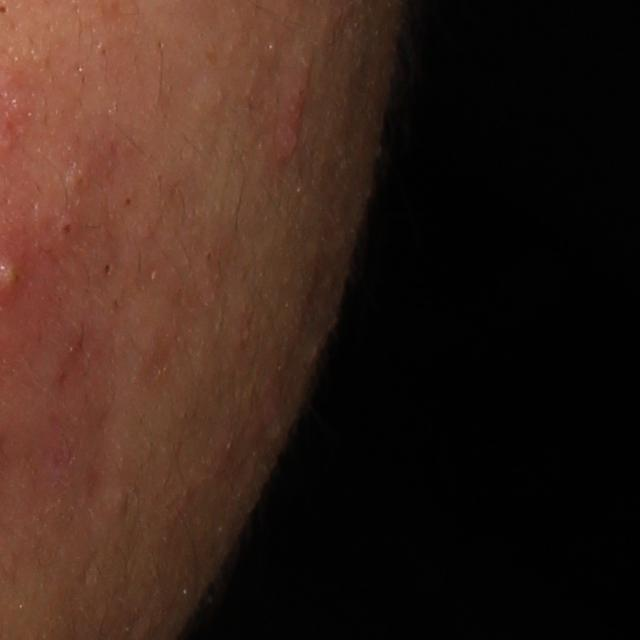comedo: (50, 155, 94, 197), (51, 218, 75, 245), (96, 260, 115, 287)
papule: (270, 84, 310, 164)
